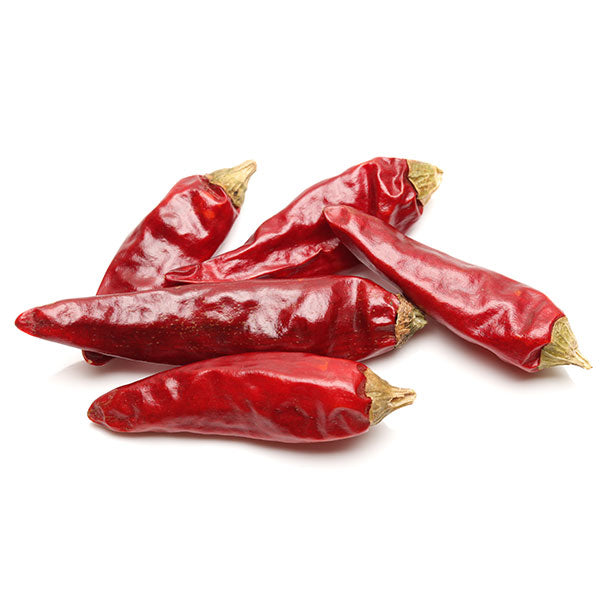Cabai: (89, 170, 492, 468)
